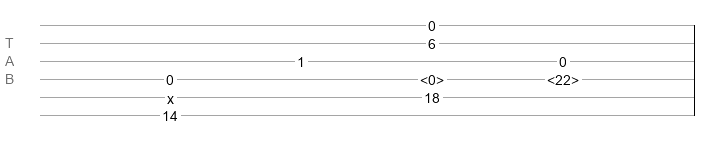0: (166, 72, 174, 82), (428, 18, 436, 28), (559, 54, 567, 64)
1: (297, 54, 305, 64)
14: (162, 108, 178, 118)
18: (424, 90, 440, 100)
6: (428, 36, 436, 46)
harmonic: (547, 72, 579, 82), (420, 72, 444, 82)
x: (167, 91, 174, 99)
